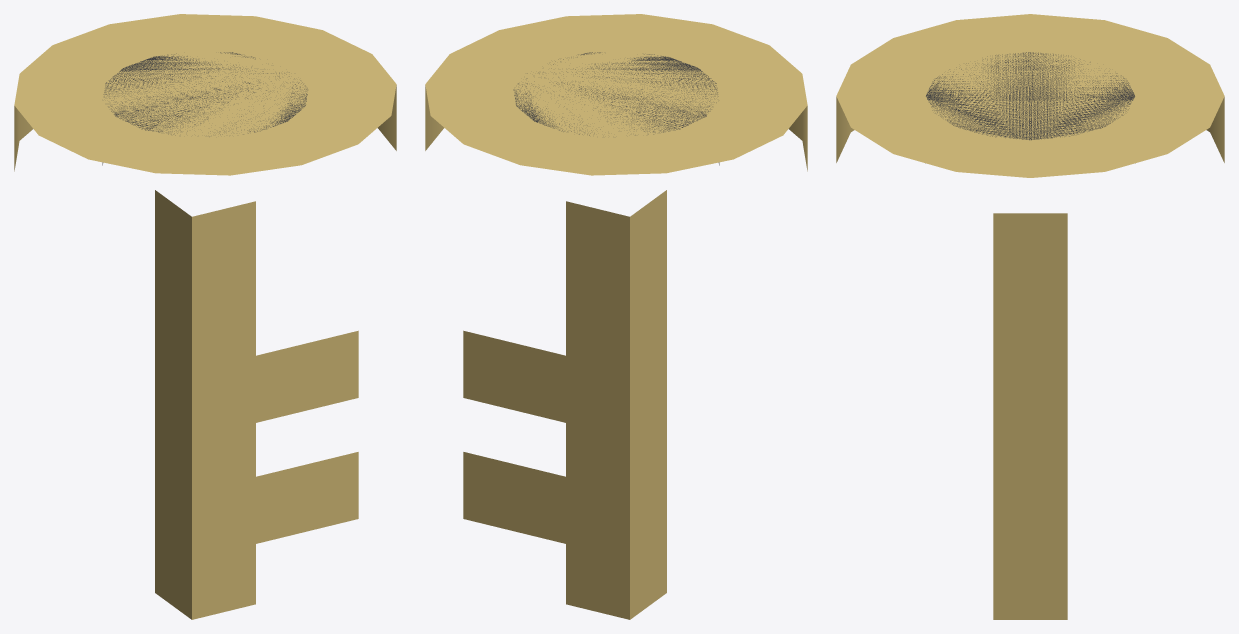
File: model.key.glb
3 renders of one model, left to right at view 1: azimuth 30°, elevation 25°; view 2: azimuth 150°, elevation 25°; view 3: azimuth 270°, elevation 25°, orthographic.
Visible parts, largest first — view 1: key; view 2: key; view 3: key.
Part boxes in pixels (x1,y1,x2,y2): key: (14,14,396,619); key: (425,14,807,619); key: (836,14,1224,619).
Bounding box in the file's own units: 0.2598 × 0.375 × 0.2598.
